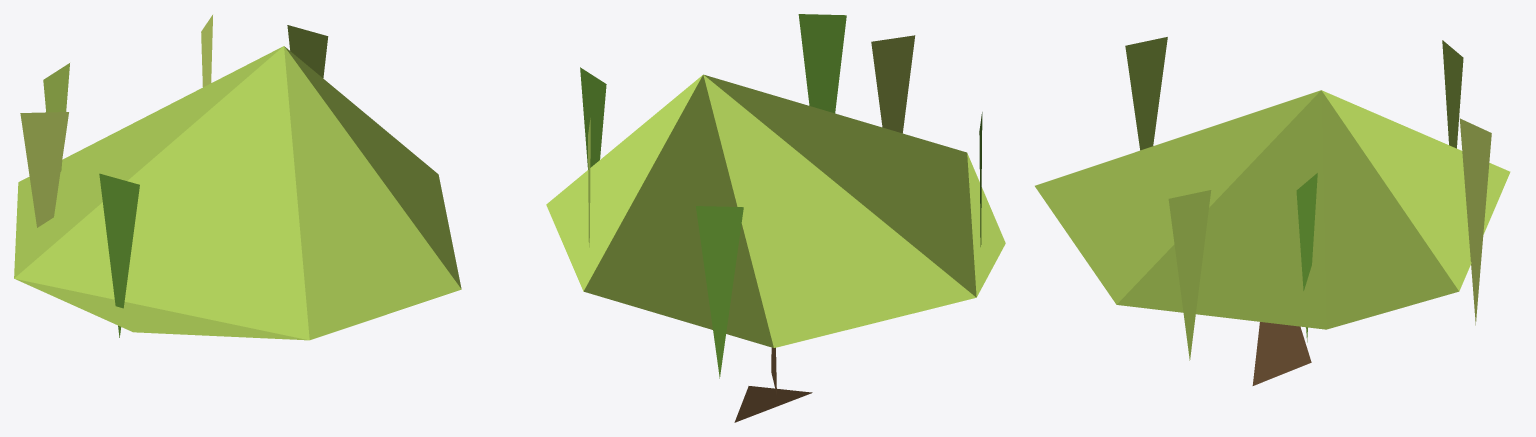
The model's file is tree_willow_3_lod2.glb.
The picture shows the model from 3 angles, left to right: view 1: azimuth 30°, elevation 25°; view 2: azimuth 150°, elevation 25°; view 3: azimuth 270°, elevation 25°; orthographic projection. The views are drawn at different scales.
Parts seen in each view (by area): view 1: tree_willow_3_lod2; view 2: tree_willow_3_lod2; view 3: tree_willow_3_lod2.
Part boxes in pixels (x1=…): tree_willow_3_lod2: x1=14, y1=15, x2=461, y2=340; tree_willow_3_lod2: x1=546, y1=14, x2=1005, y2=422; tree_willow_3_lod2: x1=1035, y1=37, x2=1510, y2=385.
Bounding box in the file's own units: 5.96 × 4.67 × 5.98.
